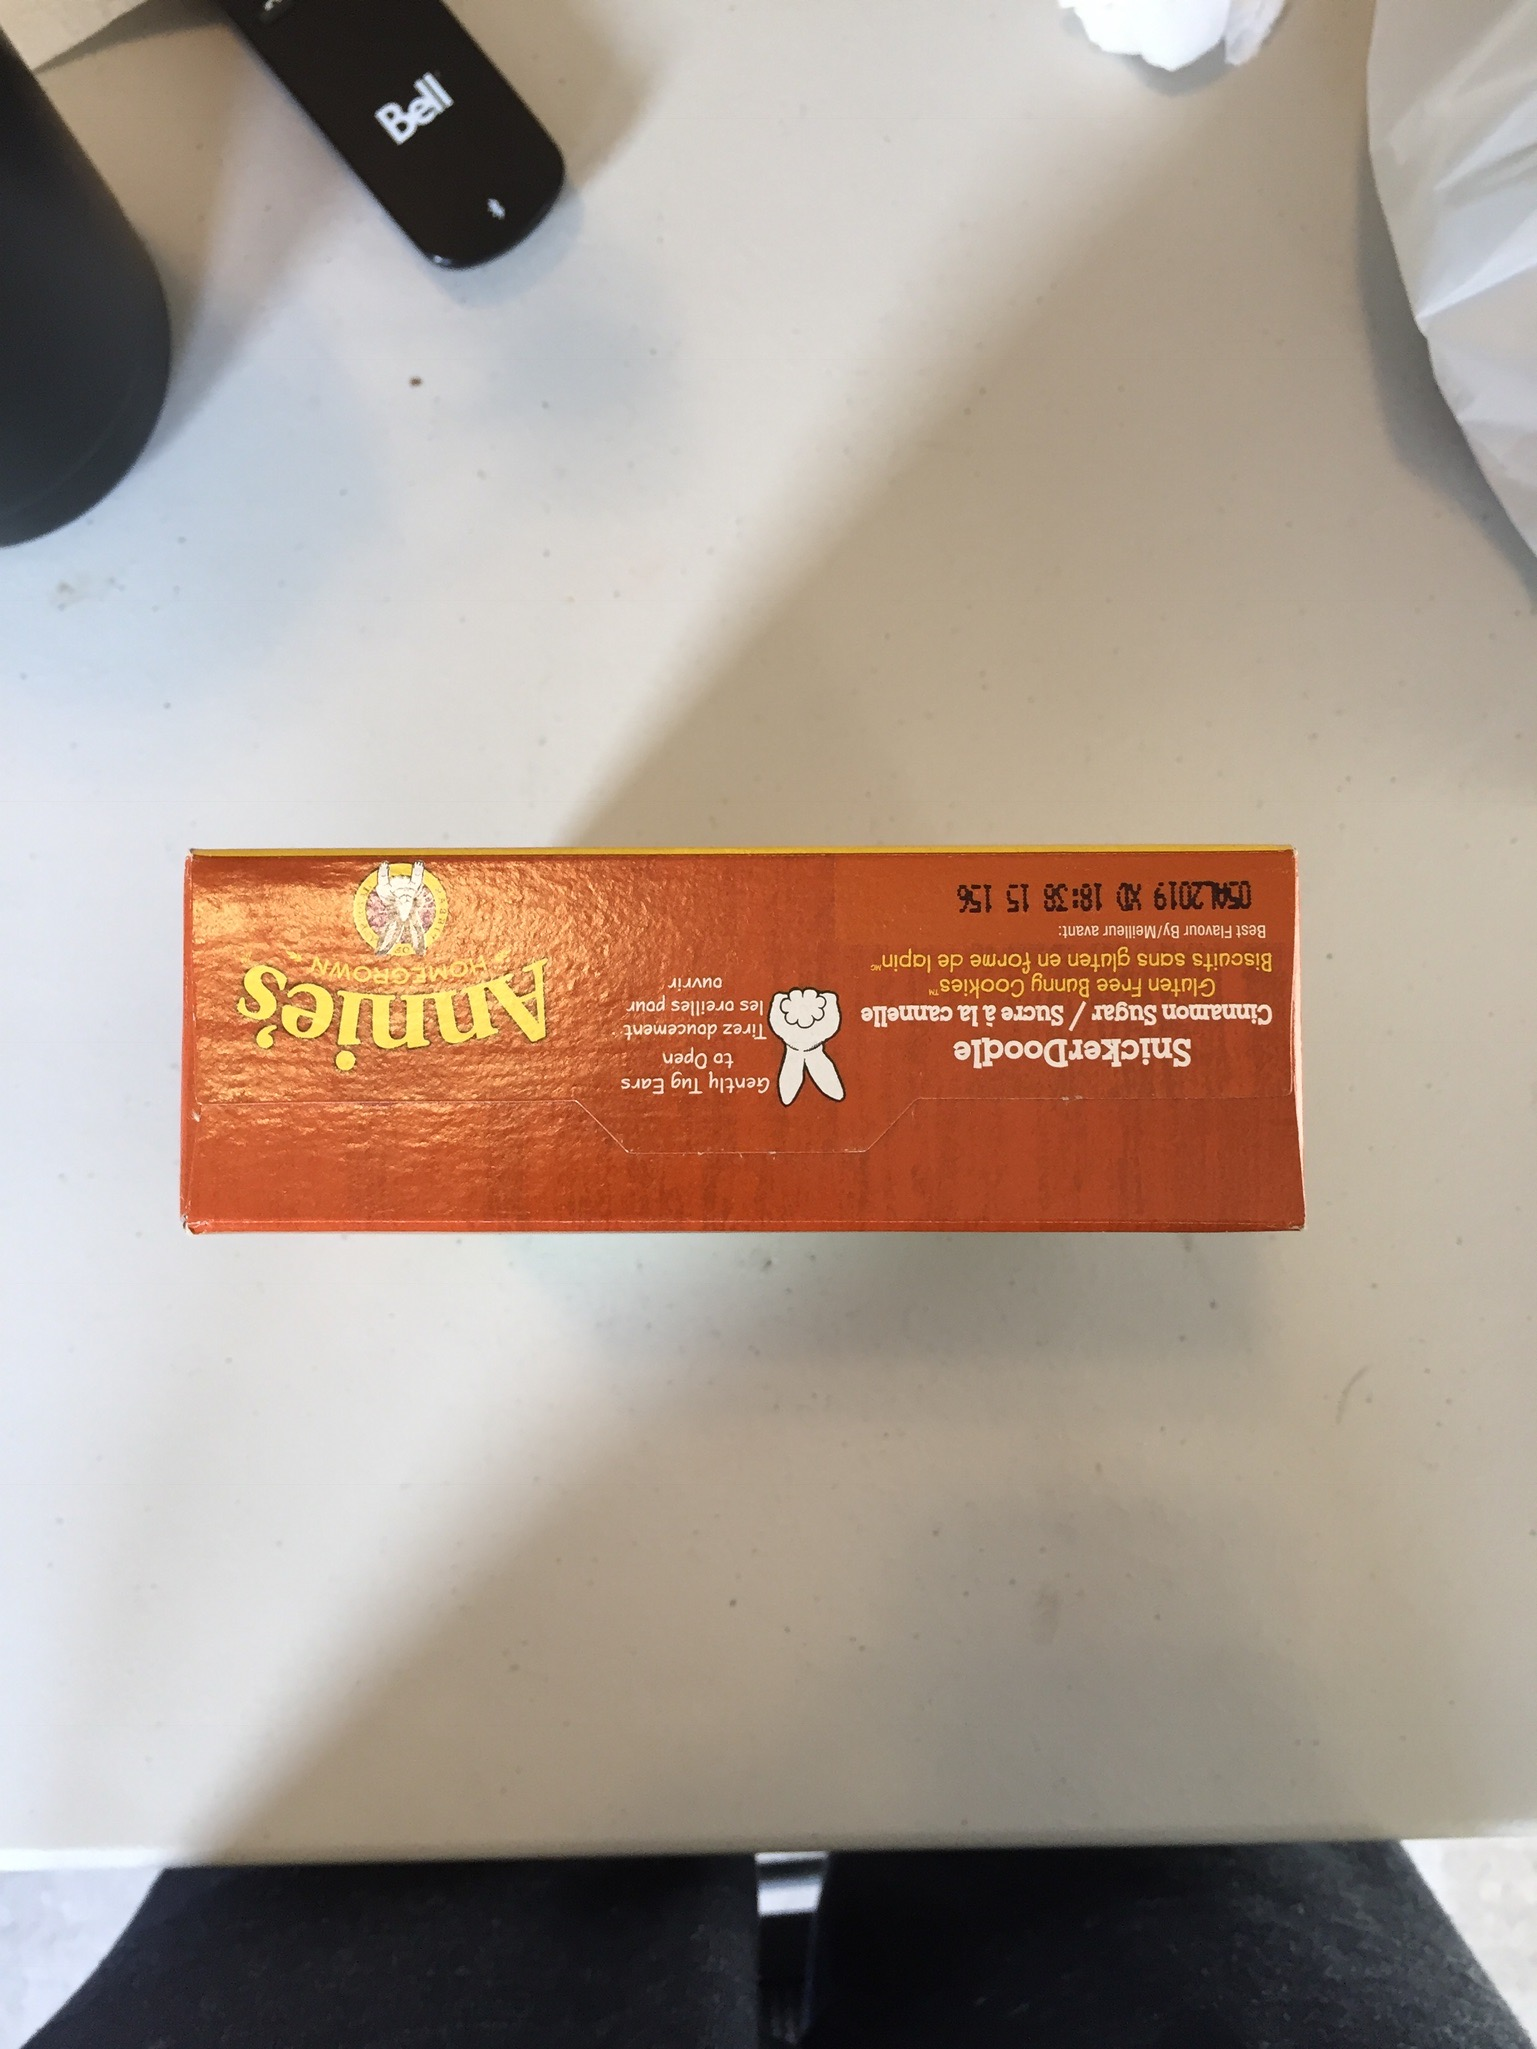annies_snickerdoodle_cinnamon_sugar: (203, 861, 1285, 1216)
